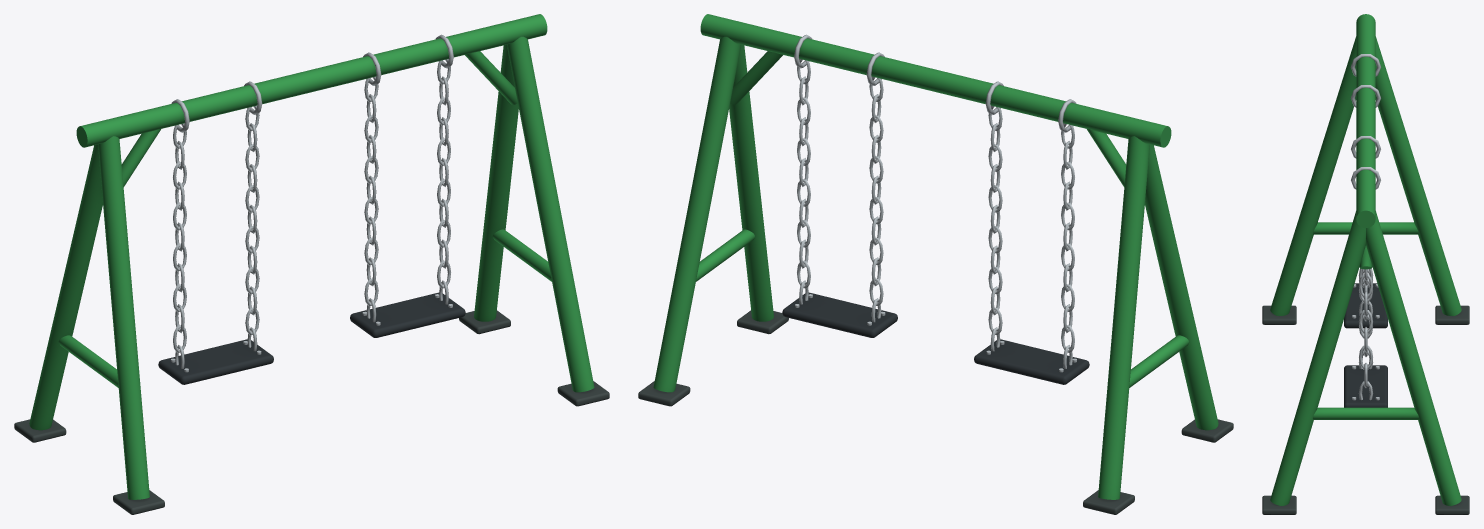
The model's file is swing-set.fbx.
The picture shows the model from 3 angles, left to right: view 1: azimuth 30°, elevation 25°; view 2: azimuth 150°, elevation 25°; view 3: azimuth 270°, elevation 25°; orthographic projection. The views are drawn at different scales.
Visible parts, largest first — view 1: swing-set; view 2: swing-set; view 3: swing-set.
Part boxes in pixels (x1,y1,x2,y2): swing-set: (14, 14, 609, 514); swing-set: (638, 14, 1233, 514); swing-set: (1262, 14, 1469, 514).
Size of the model in its own units: 70000 by 48292 by 30000.
1 material, 1 textured.
